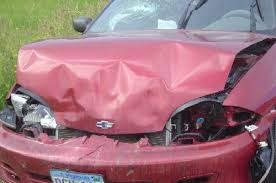Broken-glass: (164, 98, 241, 138), (7, 83, 59, 134)
Dent: (16, 36, 233, 133)
